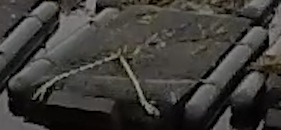bag: (6, 5, 269, 125)
